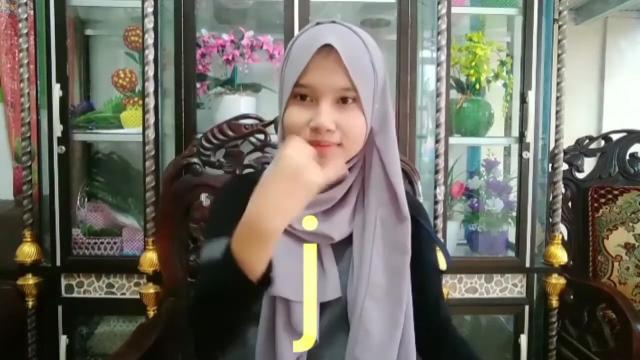J: (251, 132, 351, 238)
